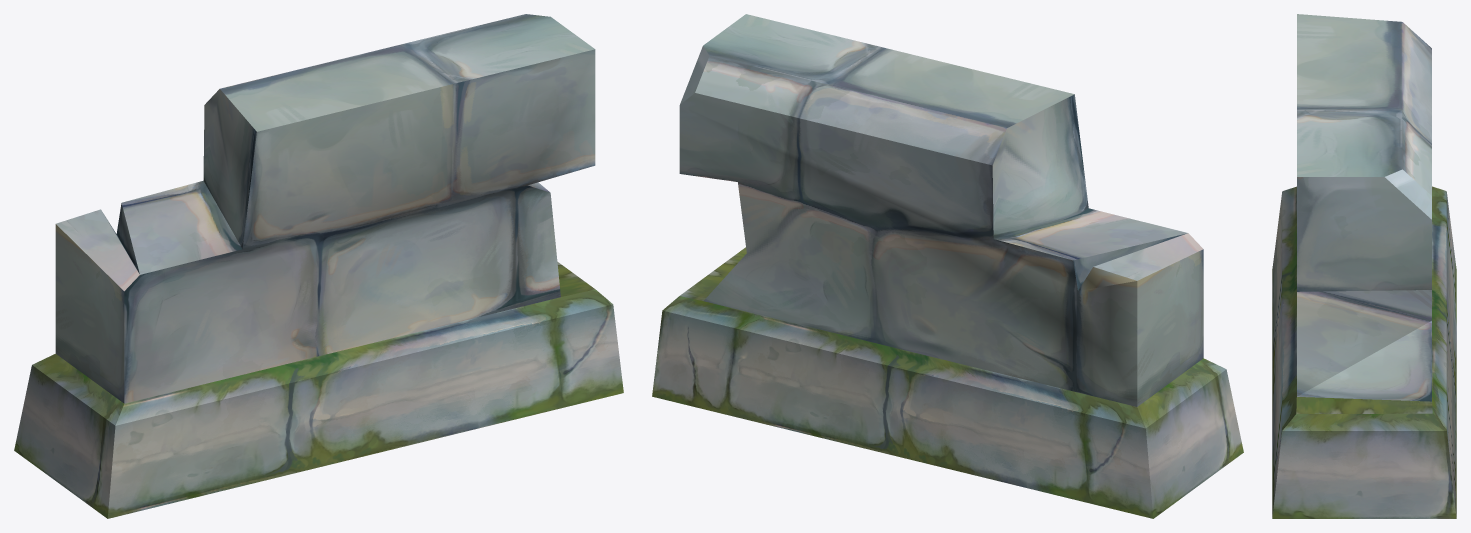
Rendered from temple_obstacle_01_broken.fbx.
3 renders of one model, left to right at view 1: azimuth 30°, elevation 25°; view 2: azimuth 150°, elevation 25°; view 3: azimuth 270°, elevation 25°, orthographic. The views are drawn at different scales.
Parts seen in each view (by area): view 1: geo_Temple_Stair_LP.013; view 2: geo_Temple_Stair_LP.013; view 3: geo_Temple_Stair_LP.013.
Boxes of the visible parts, x1=… form: geo_Temple_Stair_LP.013: x1=14, y1=14, x2=623, y2=518; geo_Temple_Stair_LP.013: x1=652, y1=14, x2=1243, y2=518; geo_Temple_Stair_LP.013: x1=1272, y1=14, x2=1456, y2=518.
Size of the model in its own units: 3.19 by 2 by 1.
